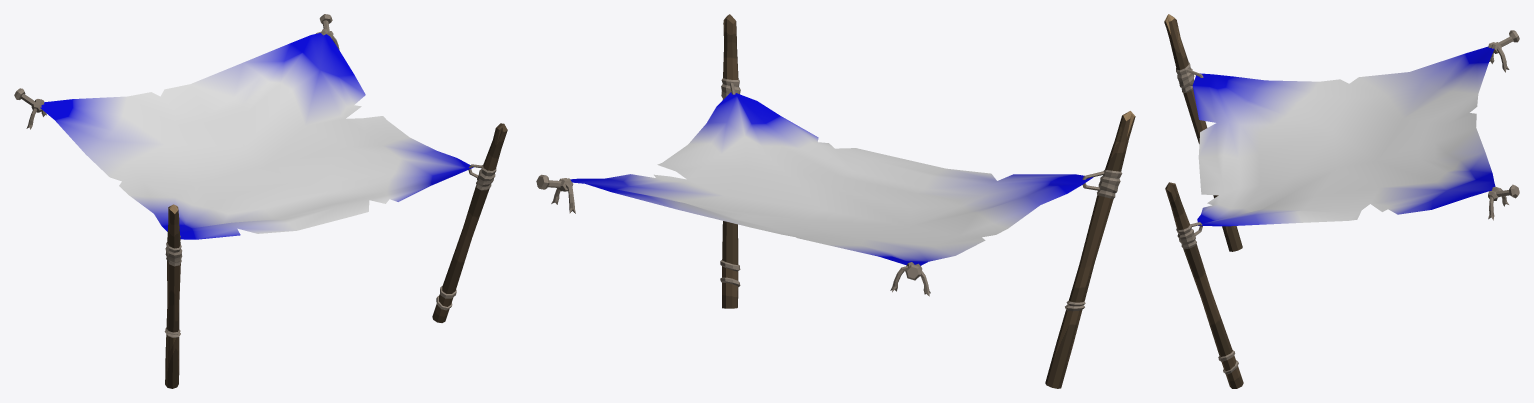
File: SM_Bld_Awning_01.fbx
3 renders of one model, left to right at view 1: azimuth 30°, elevation 25°; view 2: azimuth 150°, elevation 25°; view 3: azimuth 270°, elevation 25°, orthographic. The views are drawn at different scales.
Visible parts, largest first — view 1: SM_Bld_Awning_01; view 2: SM_Bld_Awning_01; view 3: SM_Bld_Awning_01.
Boxes of the visible parts, left/top/right/bottom form: SM_Bld_Awning_01: left=14, top=14, right=507, bottom=388; SM_Bld_Awning_01: left=536, top=14, right=1135, bottom=388; SM_Bld_Awning_01: left=1164, top=14, right=1519, bottom=388.
Size of the model in its own units: 506 by 305 by 443.
